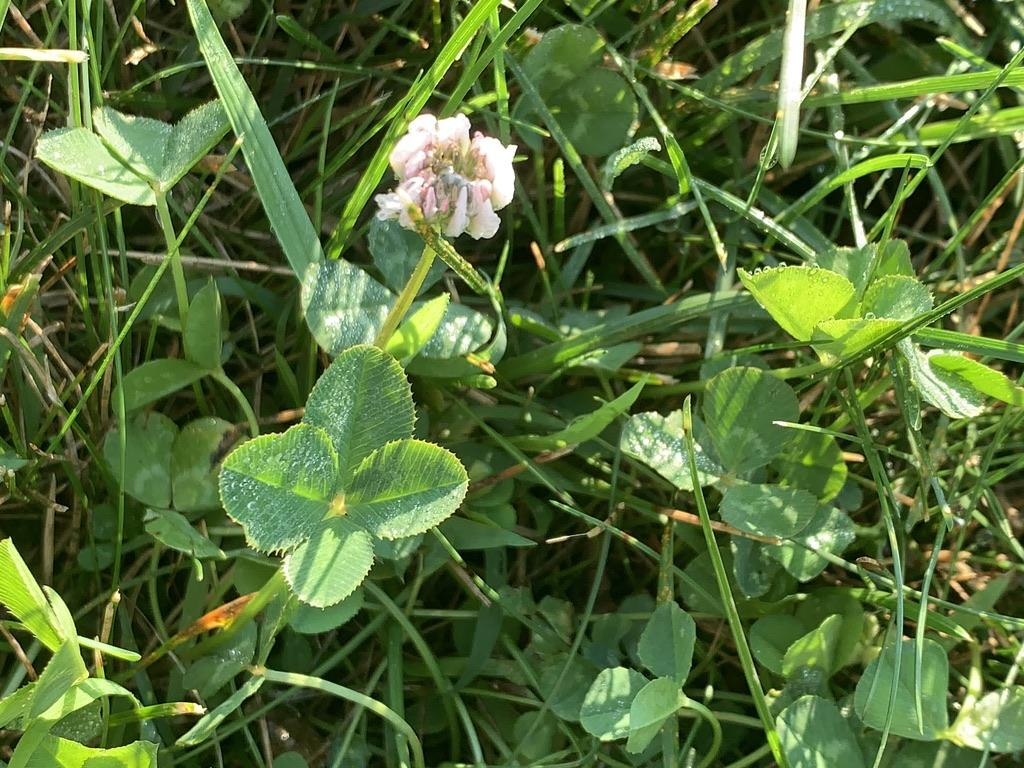4-Leaf-Clovers: (212, 339, 468, 598)
